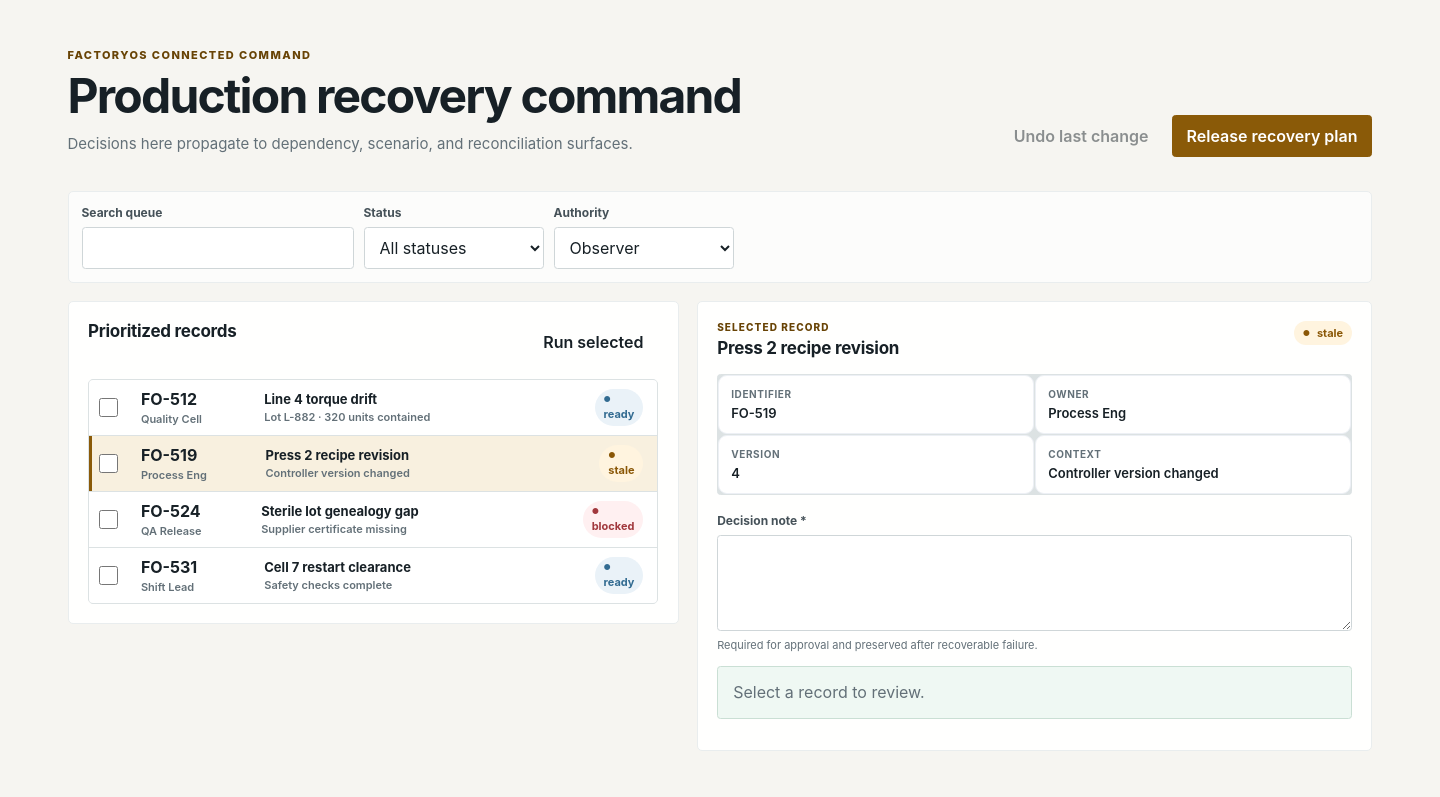
Scenario: Production recovery command › recovers a stale save while preserving the decision note
The width and height of the screenshot is (1440, 797).
Select "Approver" in the dropdown labelled "Authority" at (644, 248), box [554, 227, 734, 269]
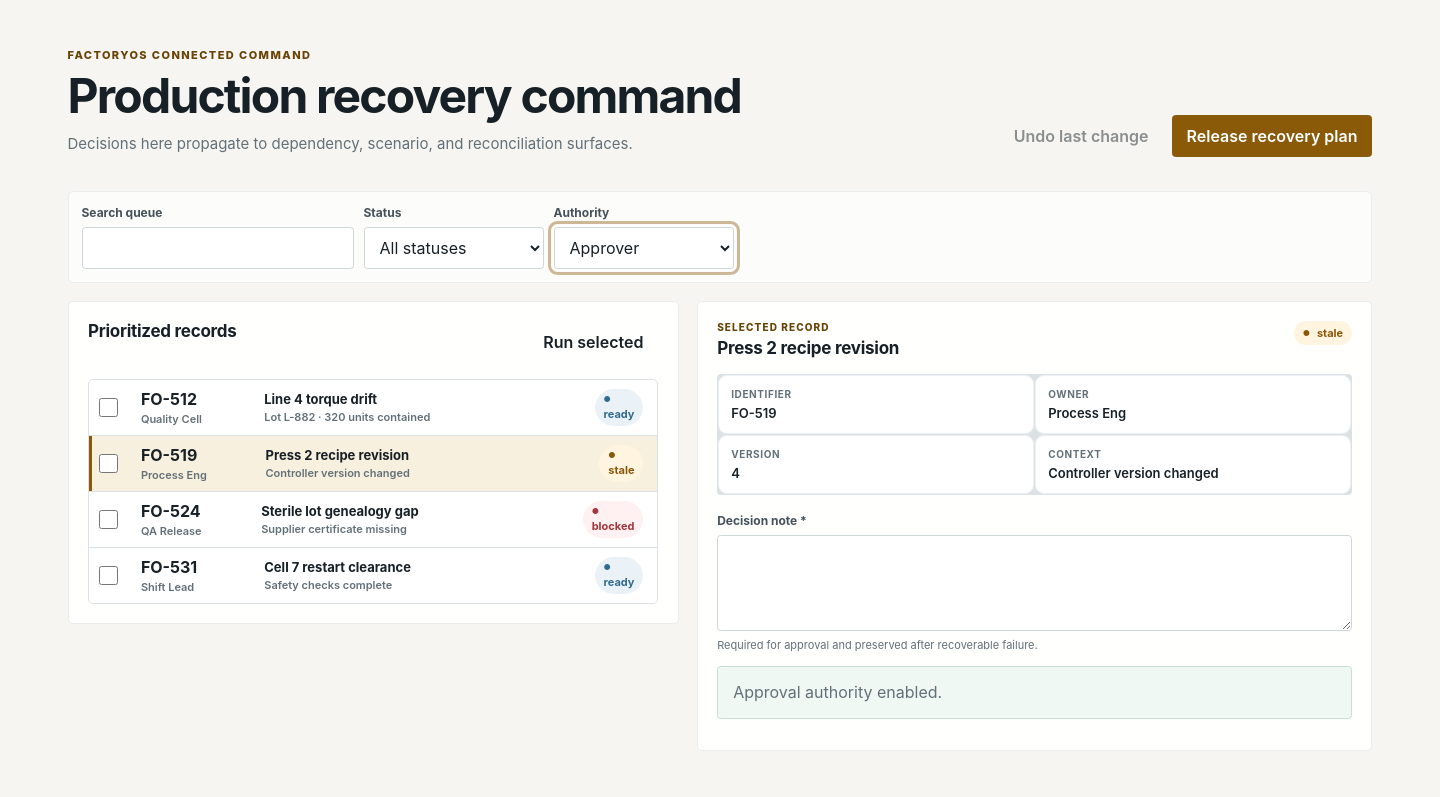
Type "Keep this evidence-based rationale" into the text box labelled "Decision note" at (1035, 583), box [717, 535, 1352, 631]
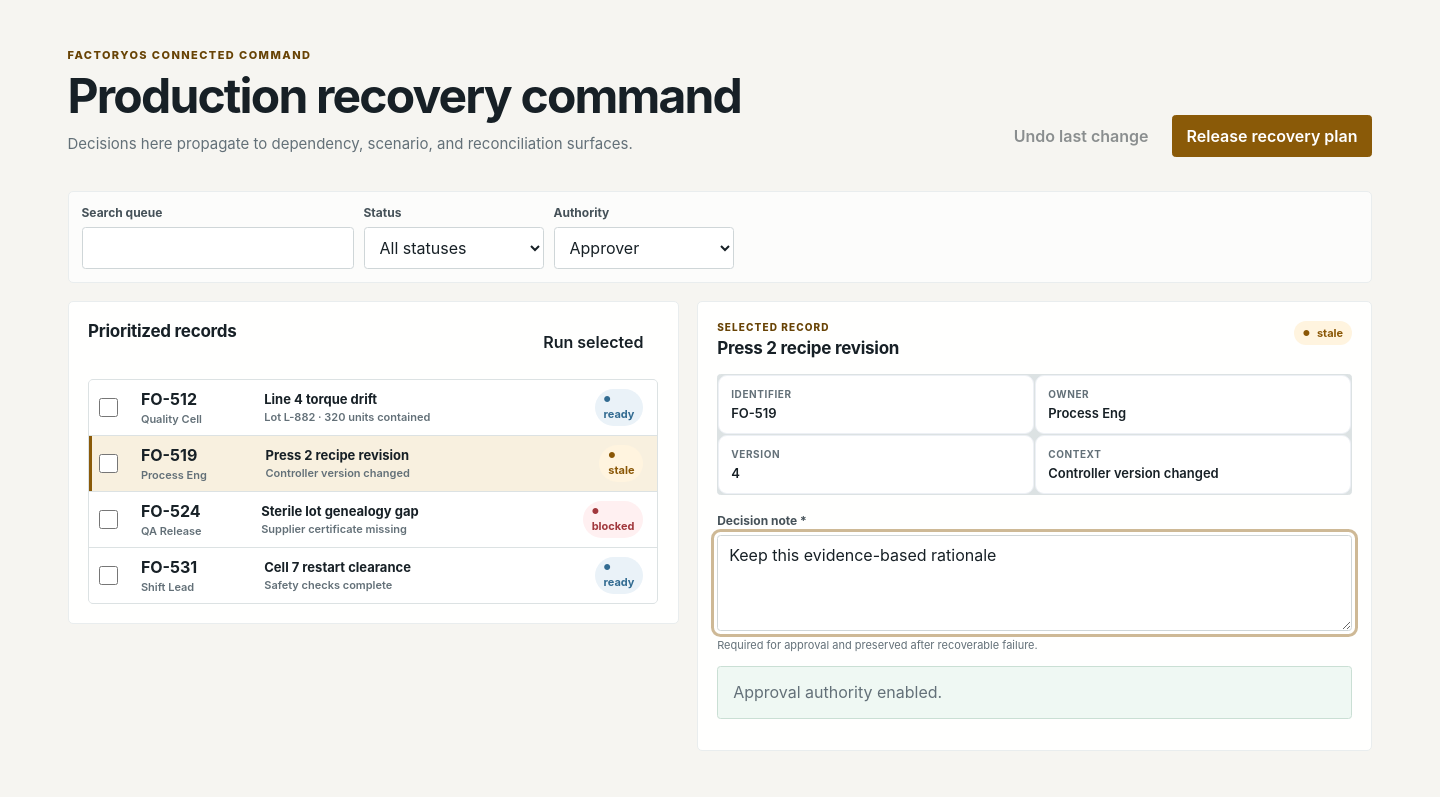
Click the button "Release recovery plan" at (1272, 136), box [1172, 115, 1372, 157]
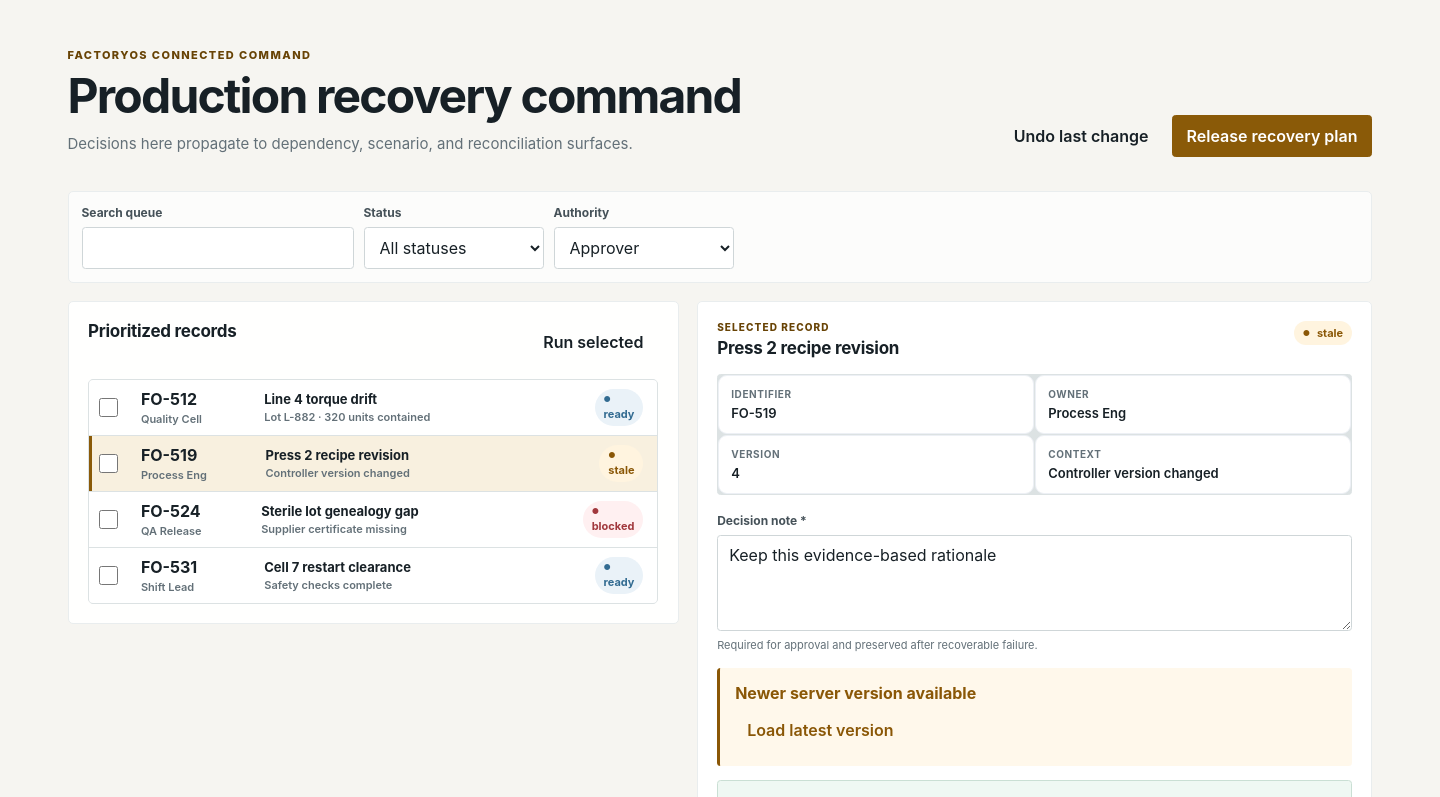
Check: the message "Newer server version available Load latest version" is shown, box [717, 668, 1352, 766]
Click the button "Load latest version" at (820, 730), box [735, 709, 1337, 751]
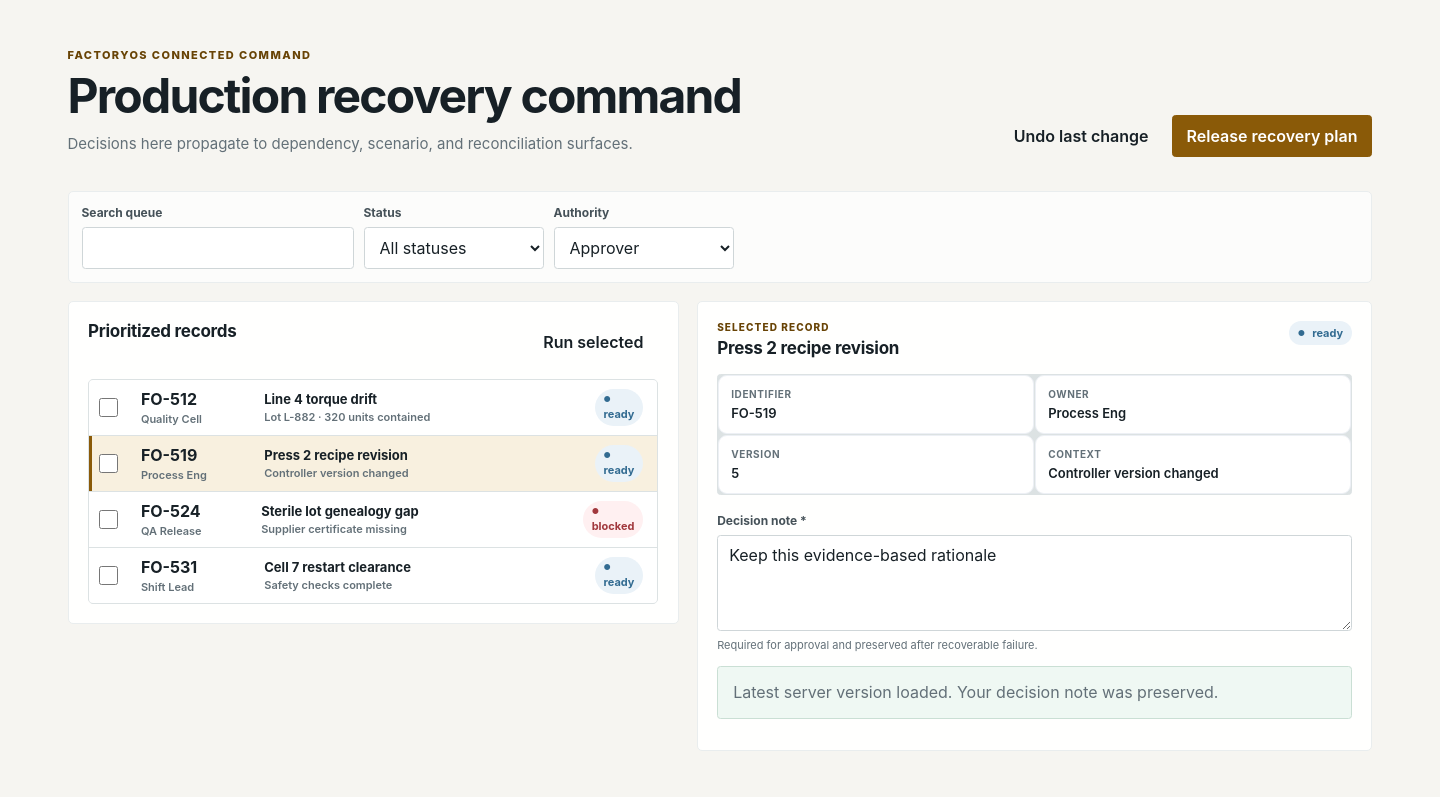
Click the button "Release recovery plan" at (1272, 136), box [1172, 115, 1372, 157]
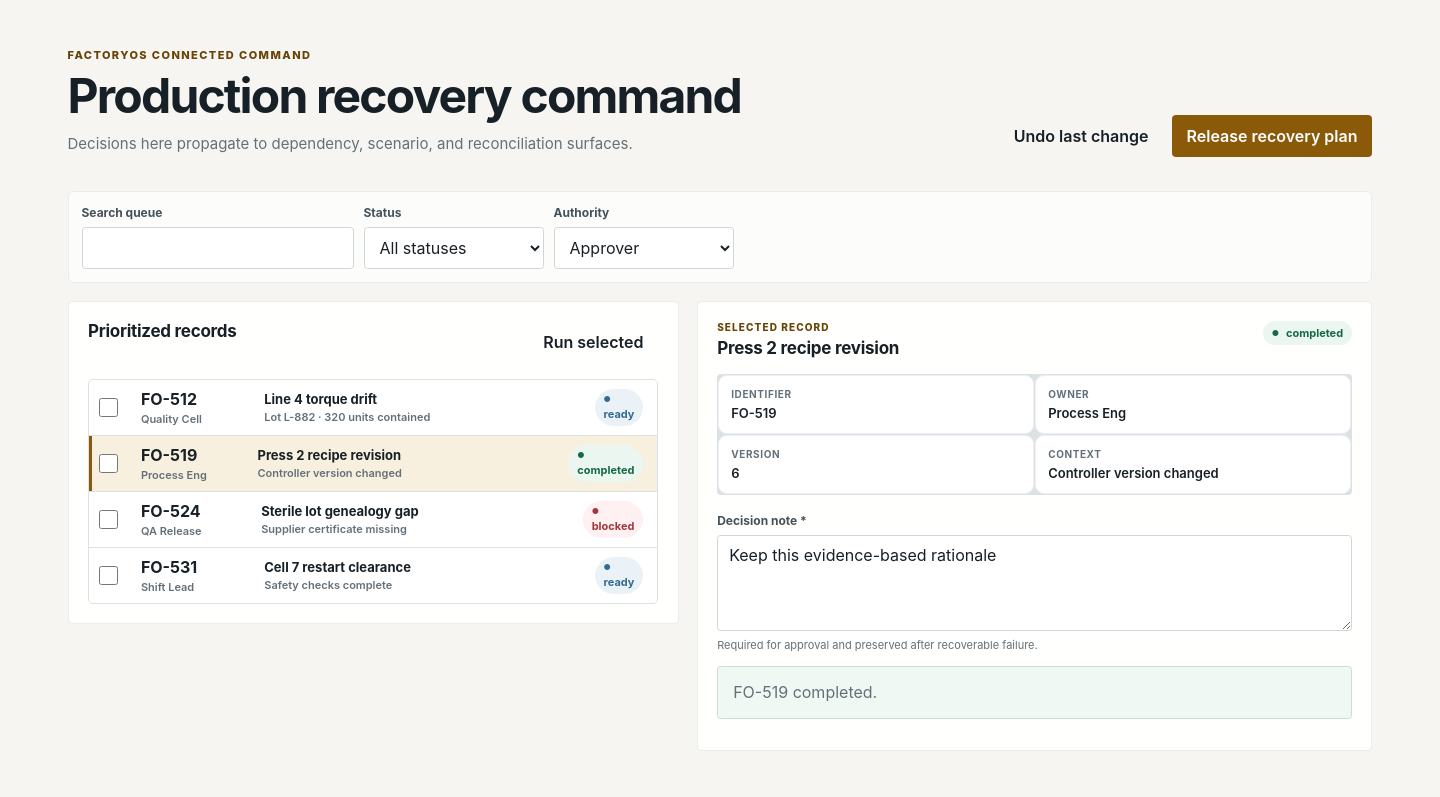
Check: the message shows "completed", box [733, 682, 877, 702]
